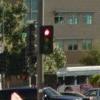Traffic light: (34, 15, 56, 63)
